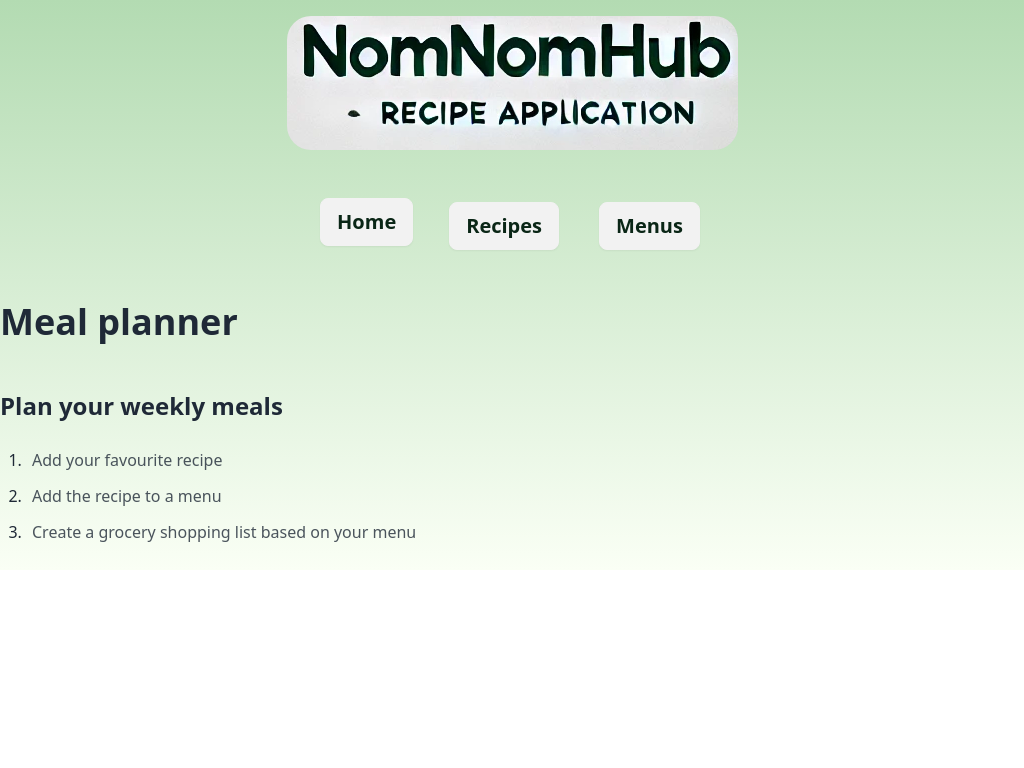
Scenario: completeTest › visit the recipe form
This screenshot has width=1024, height=768.
Expected: the list item "Home" is shown, [337,208,396,236]
Click the button "Recipes".
click(504, 226)  # box [449,202,559,250]
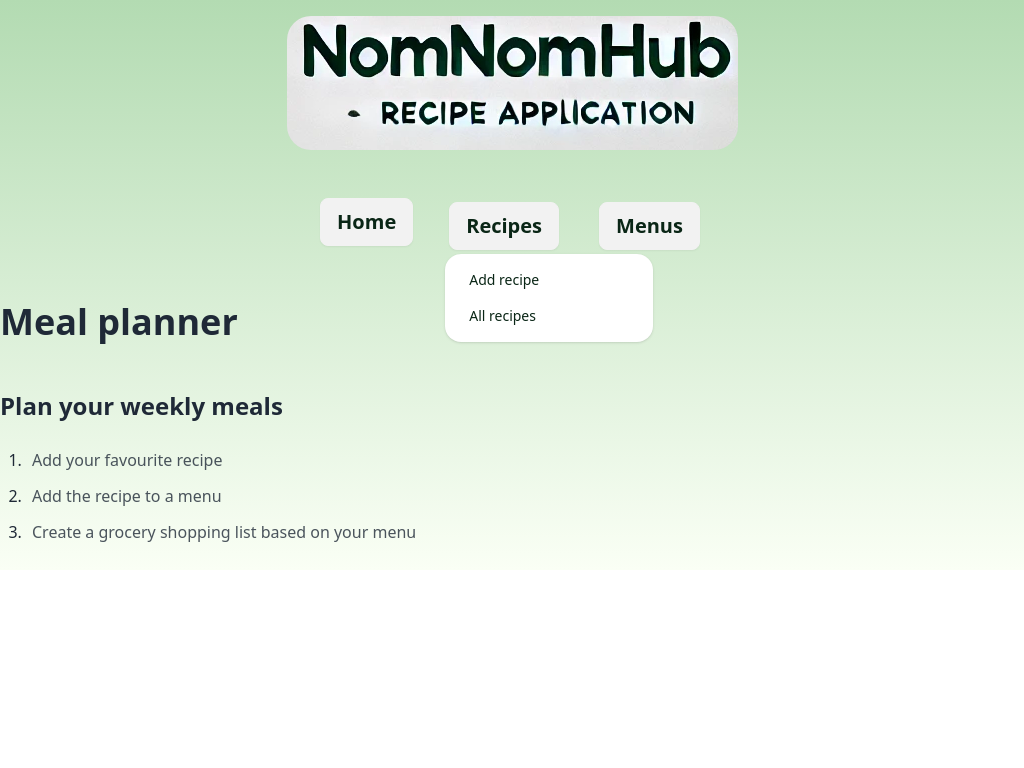
Click the link "Add recipe".
click(504, 280)  # box [469,270,539,289]
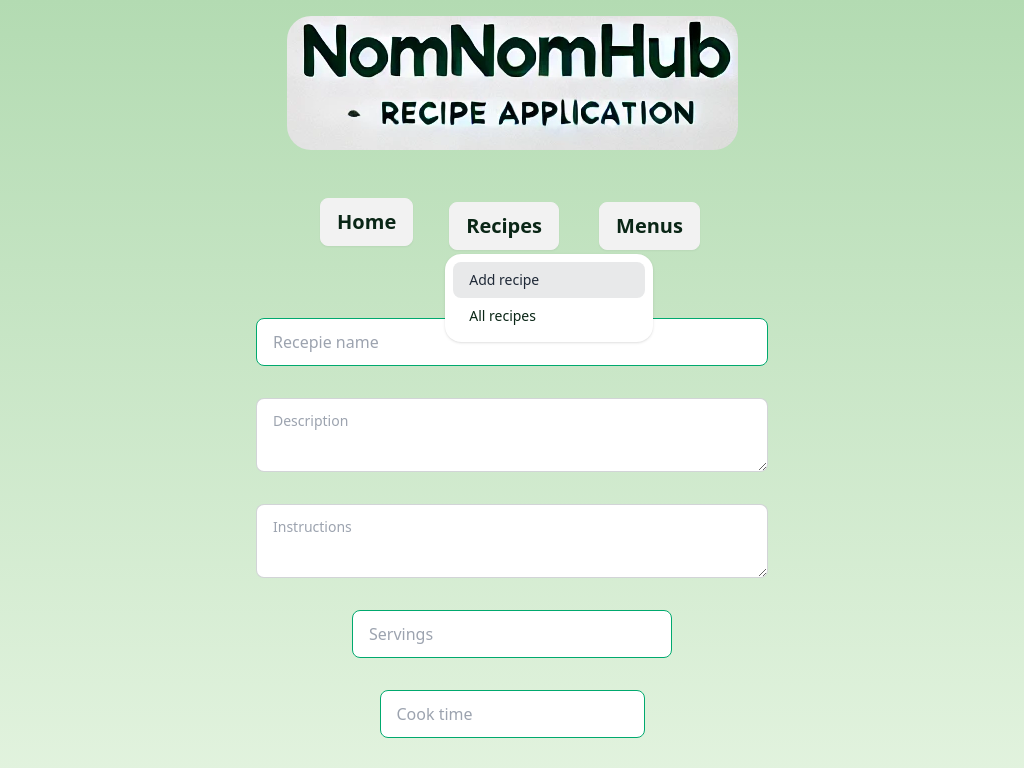
Expected: the field with placeholder "Recepie name" is shown, [256,318,768,366]
